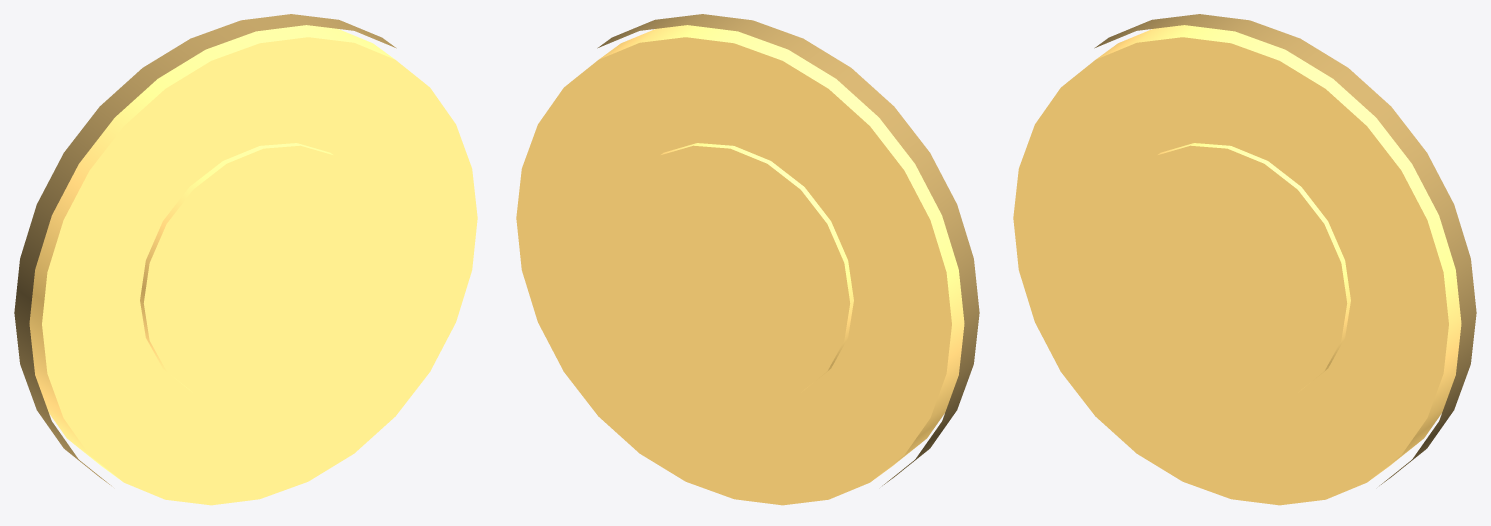
File: coin.glb
3 views of the same model, side by side, from view 1: azimuth 30°, elevation 25°; view 2: azimuth 150°, elevation 25°; view 3: azimuth 330°, elevation 25° (orthographic).
Visible parts, largest first — view 1: coin; view 2: coin; view 3: coin.
Part boxes in pixels (bbox=[...]): coin: bbox=[14, 14, 477, 505]; coin: bbox=[516, 14, 979, 505]; coin: bbox=[1013, 14, 1476, 505].
Size of the model in its own units: 0.208 by 0.208 by 0.024.
